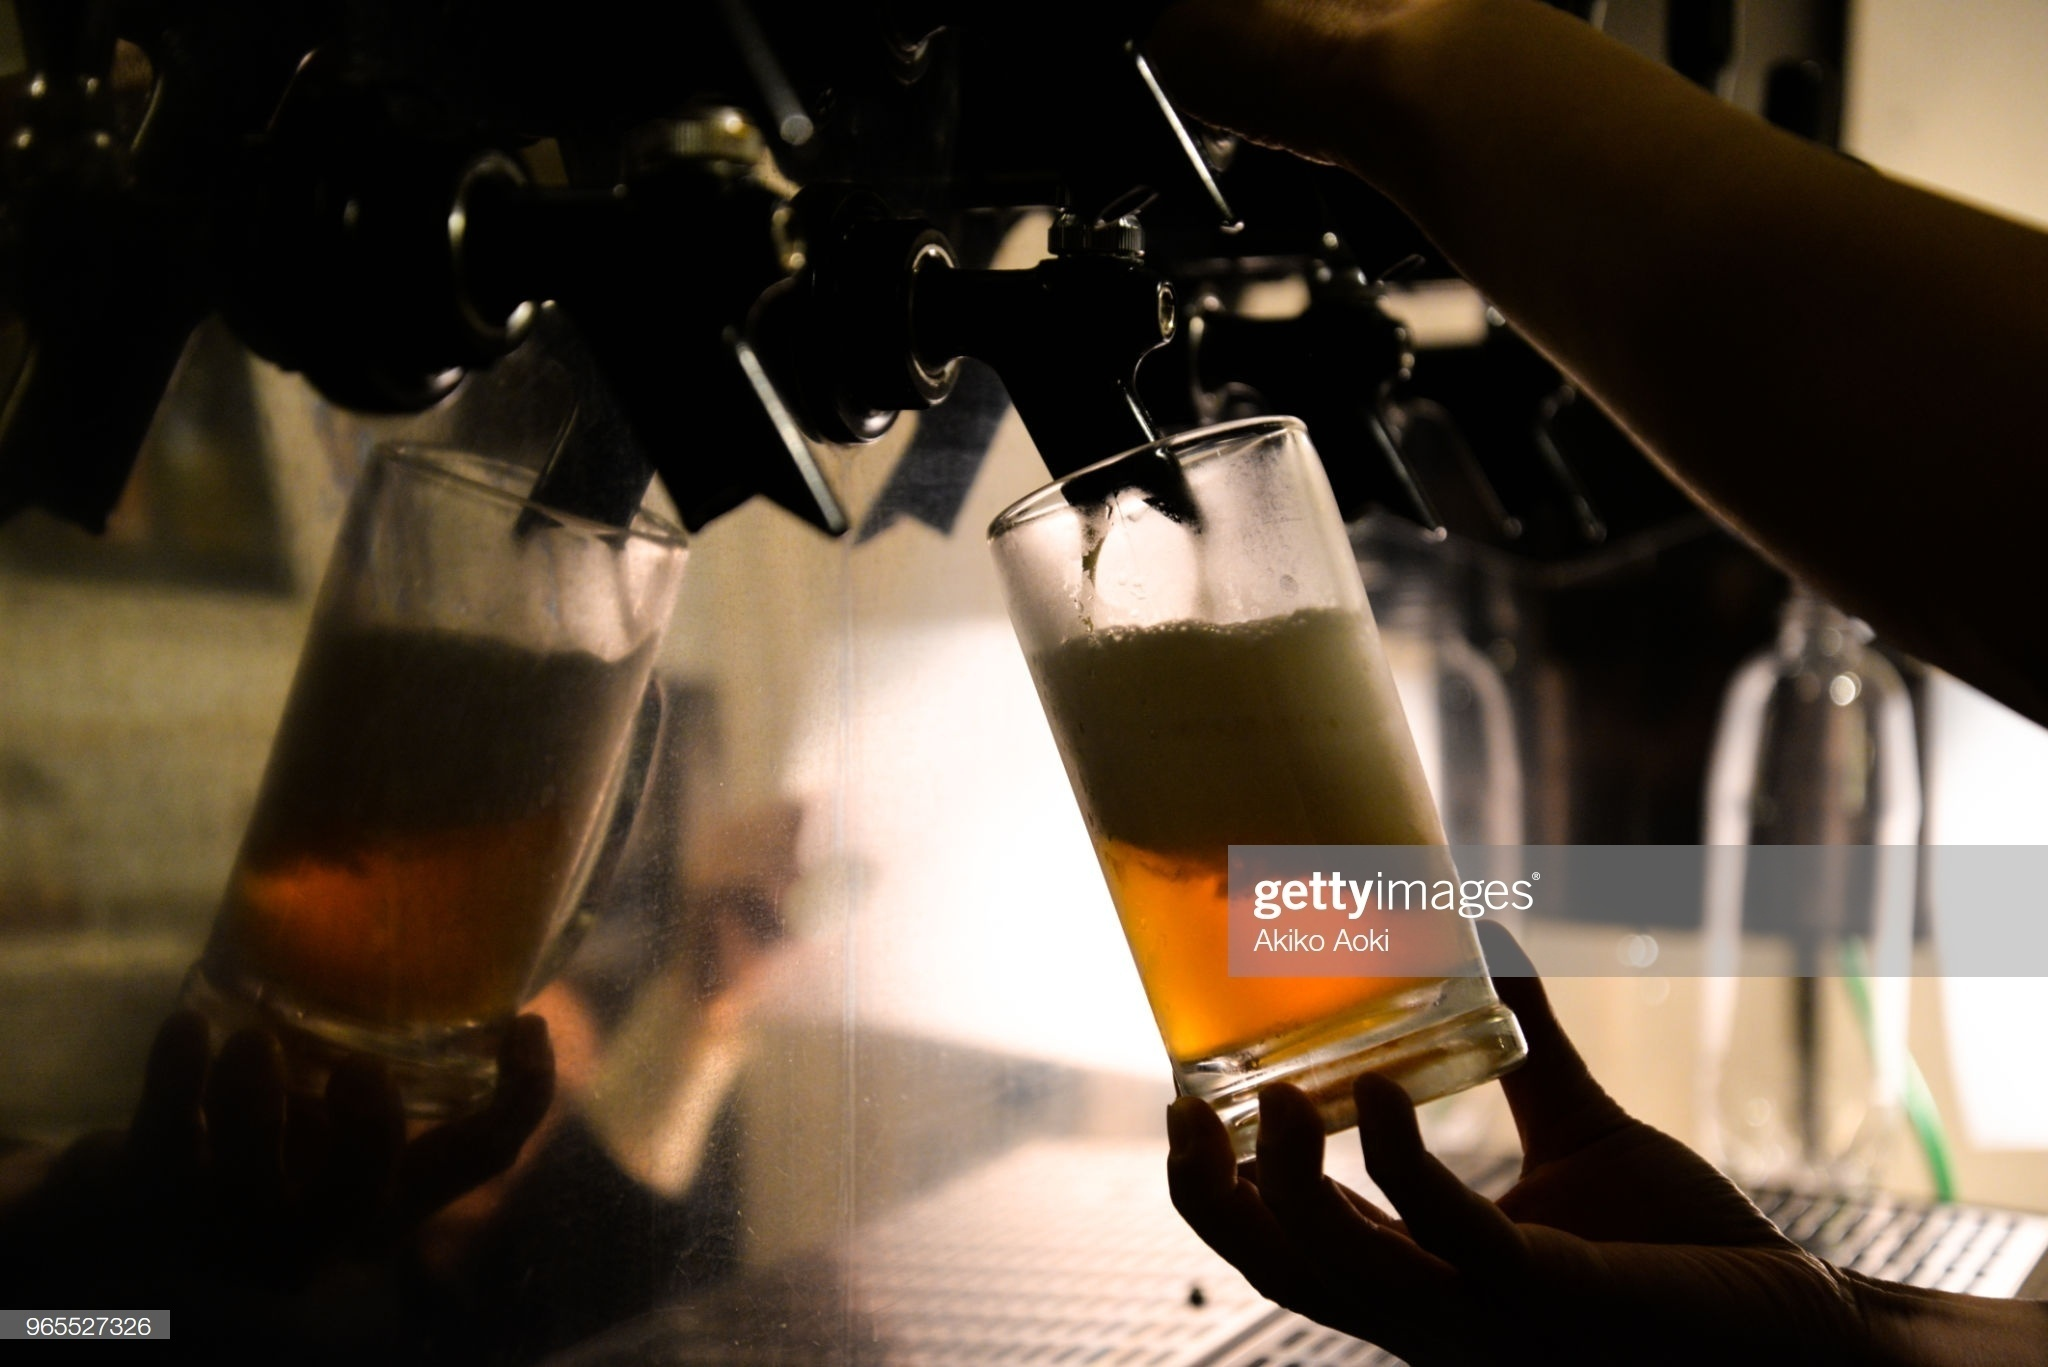whiskey: (987, 381, 1505, 1076), (171, 436, 711, 1088)
